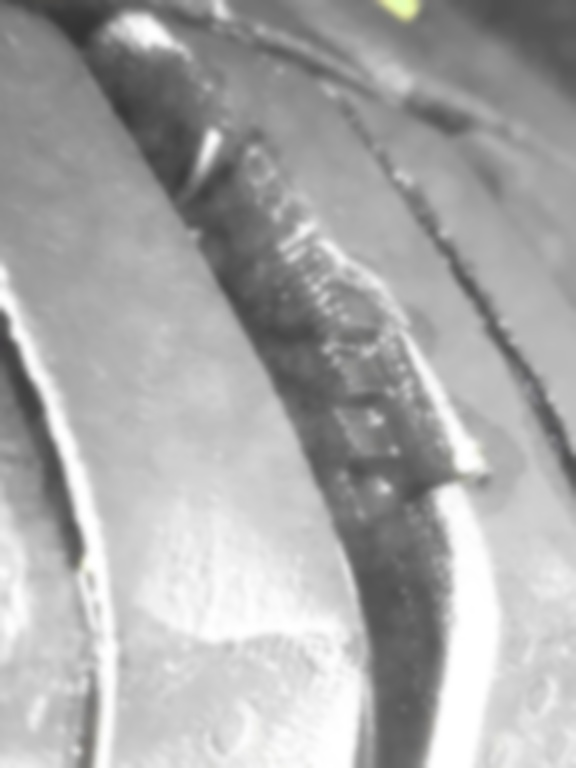temoin:80: (219, 217, 505, 558)
